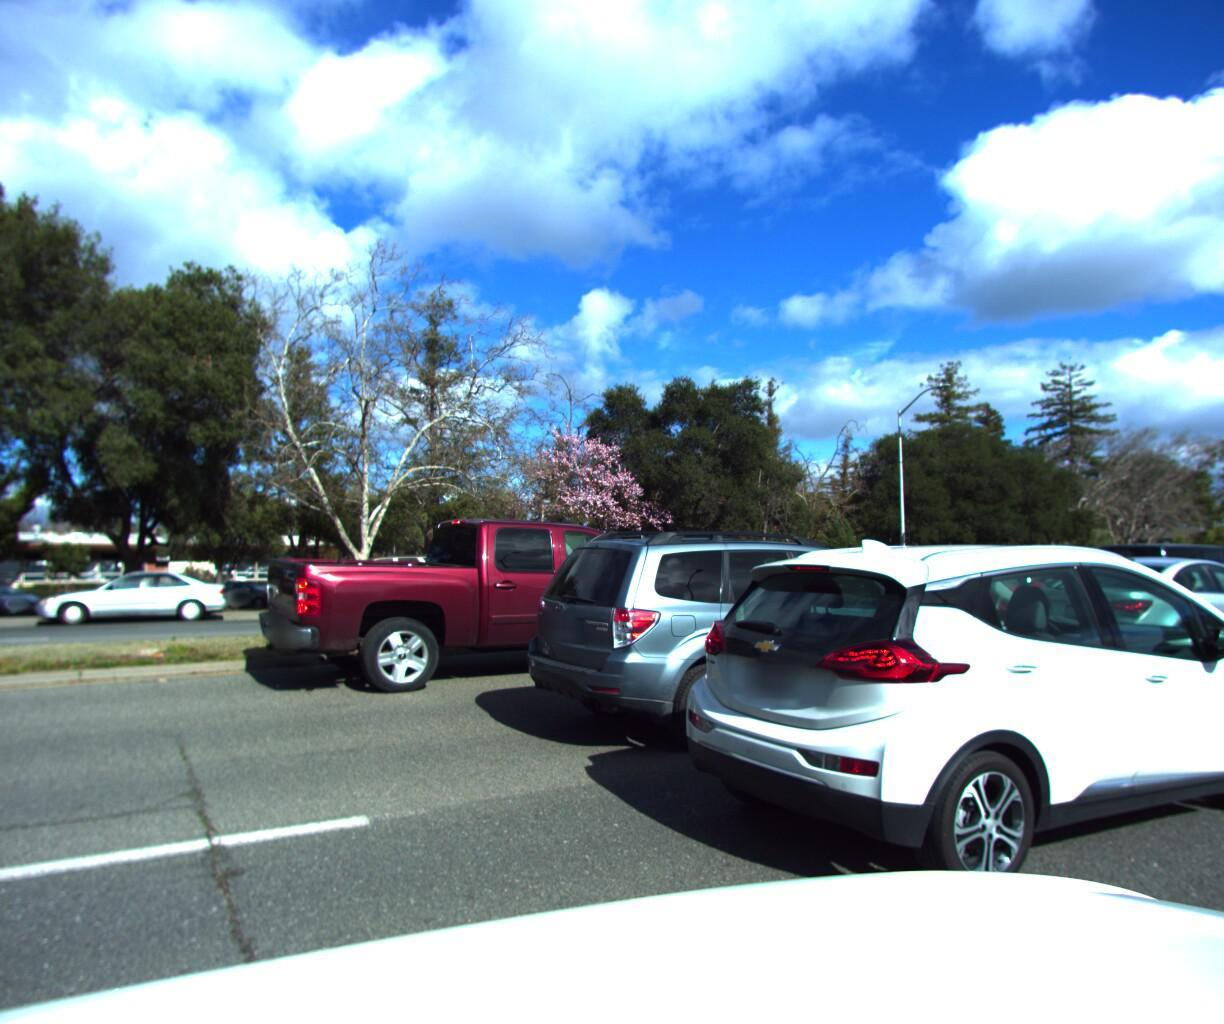car: (628, 499, 1224, 930), (496, 515, 996, 762), (254, 504, 750, 707), (994, 560, 1224, 684), (807, 555, 1075, 653), (1073, 542, 1224, 634), (35, 573, 235, 637), (288, 557, 471, 626)
